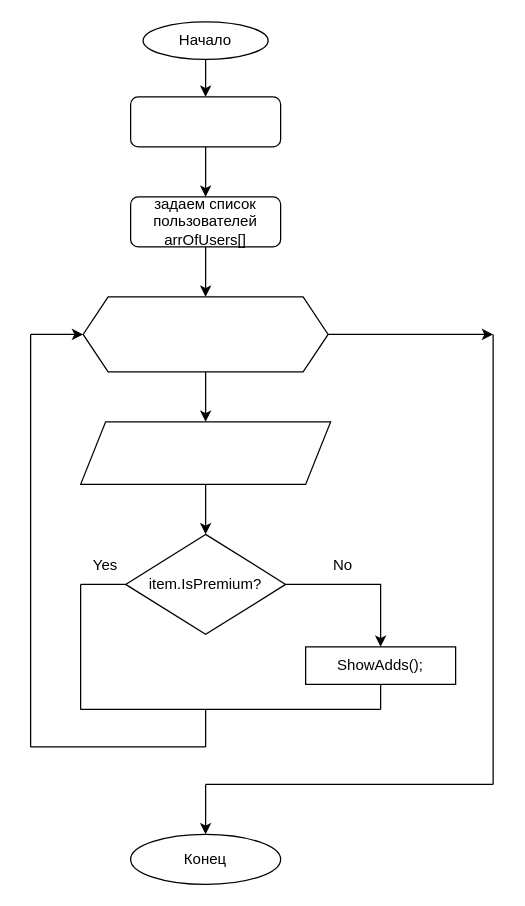
This 525x906 diagram has some shape labels left out. Each missing label, with the centre of its shape:
Console.WriteLine($"Привет, {item.Name}");: (205,452)
foreach (var item in arrOfUsers): (205,334)
Задаем класс User c соотвествующими свойствами: (205,121)
